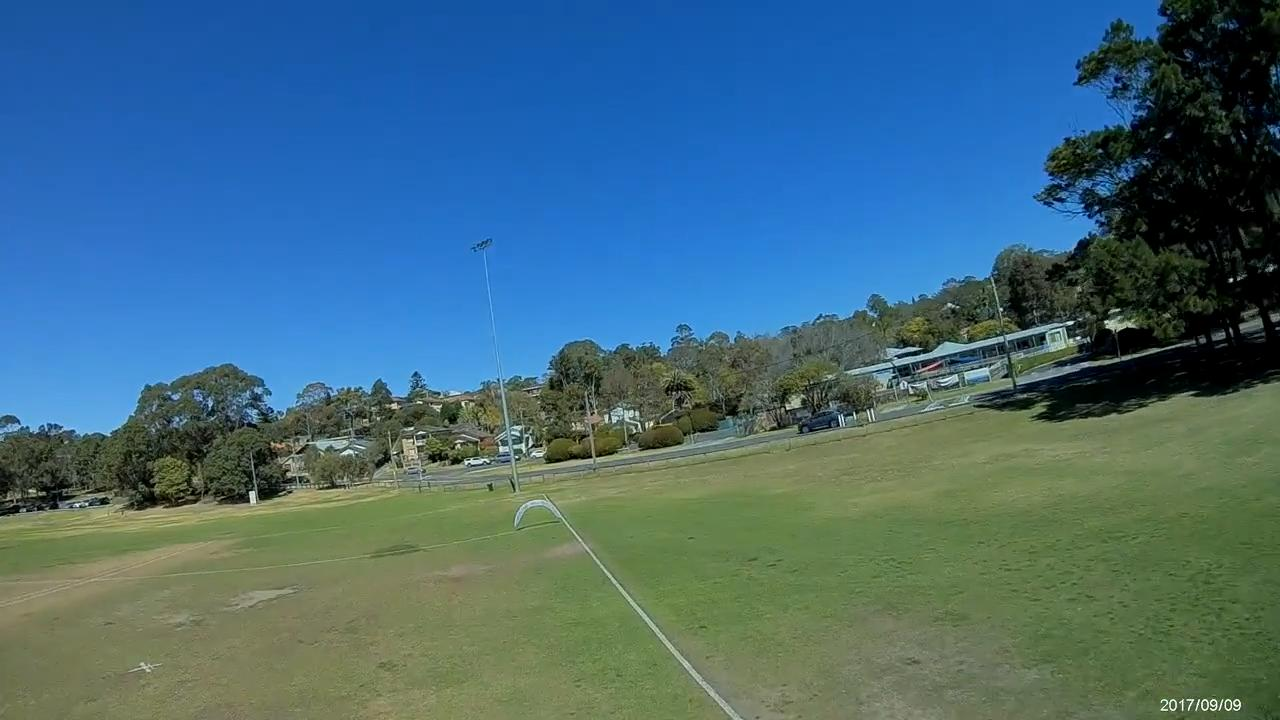gate: (510, 499, 560, 529)
